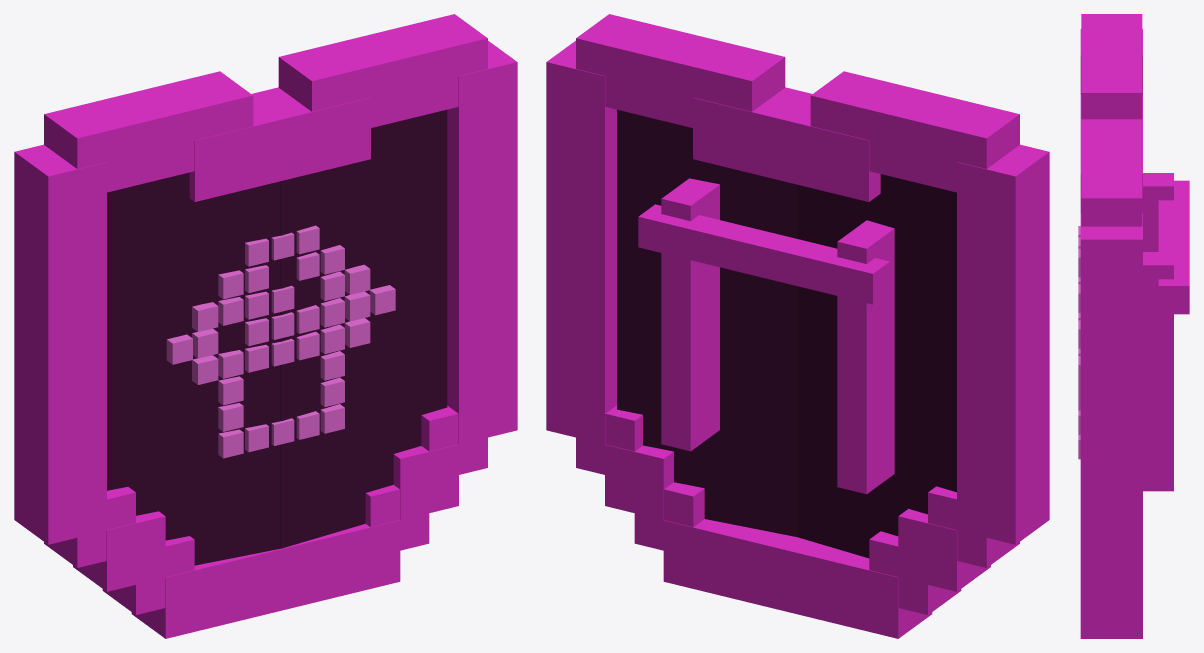
The model's file is PoisonShield.fbx.
3 views of the same model, side by side, from view 1: azimuth 30°, elevation 25°; view 2: azimuth 150°, elevation 25°; view 3: azimuth 270°, elevation 25° (orthographic). The views are drawn at different scales.
Parts seen in each view (by area): view 1: Cube.014, Cube.001, Cube.034, Cube.035, Cube.050; view 2: Cube.014, Cube.001, Cube.017; view 3: Cube.014, Cube.017.
Boxes of the visible parts, x1,y1,x2,y2 form: Cube.014: [14, 14, 517, 638]; Cube.001: [107, 109, 447, 565]; Cube.034: [166, 334, 192, 364]; Cube.035: [192, 302, 218, 331]; Cube.050: [192, 355, 218, 384]; Cube.014: [546, 14, 1049, 638]; Cube.001: [617, 109, 956, 558]; Cube.017: [638, 178, 894, 494]; Cube.014: [1080, 14, 1142, 638]; Cube.017: [1143, 173, 1189, 491].
Bounding box in the file's own units: 160 × 170 × 35.73.
